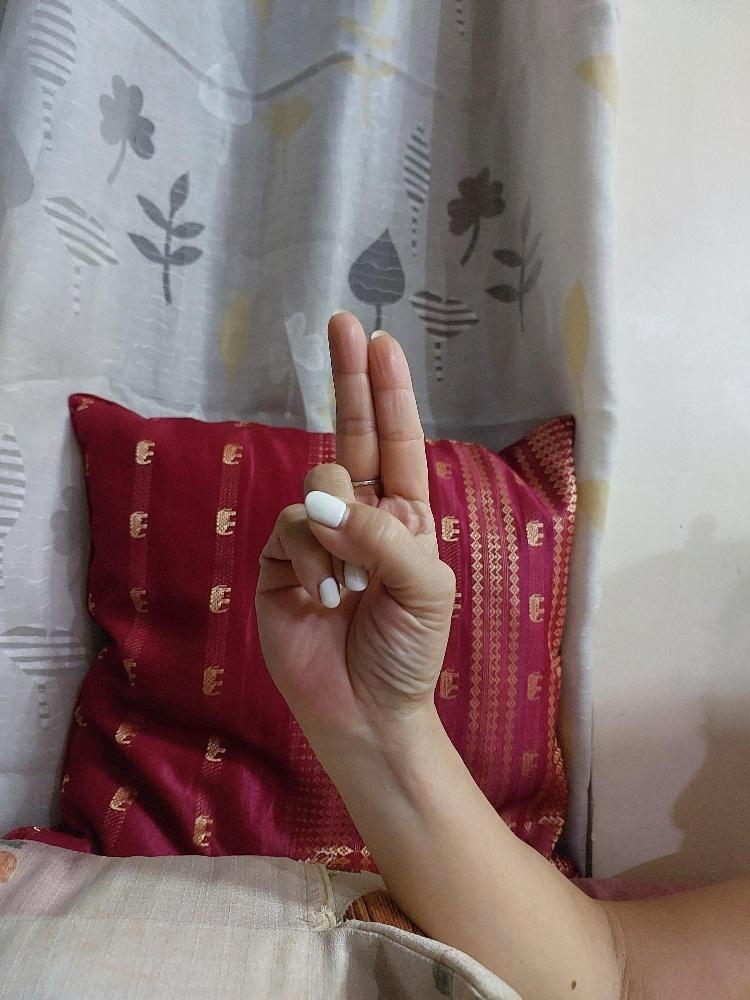u: (249, 305, 461, 715)
